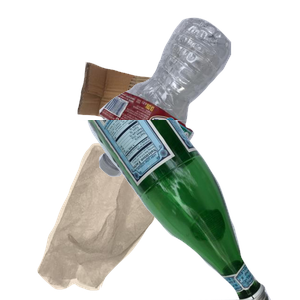cardboard: (75, 59, 237, 176)
glass: (75, 120, 300, 300)
plastic: (96, 15, 300, 184)
trash: (35, 140, 203, 300)
